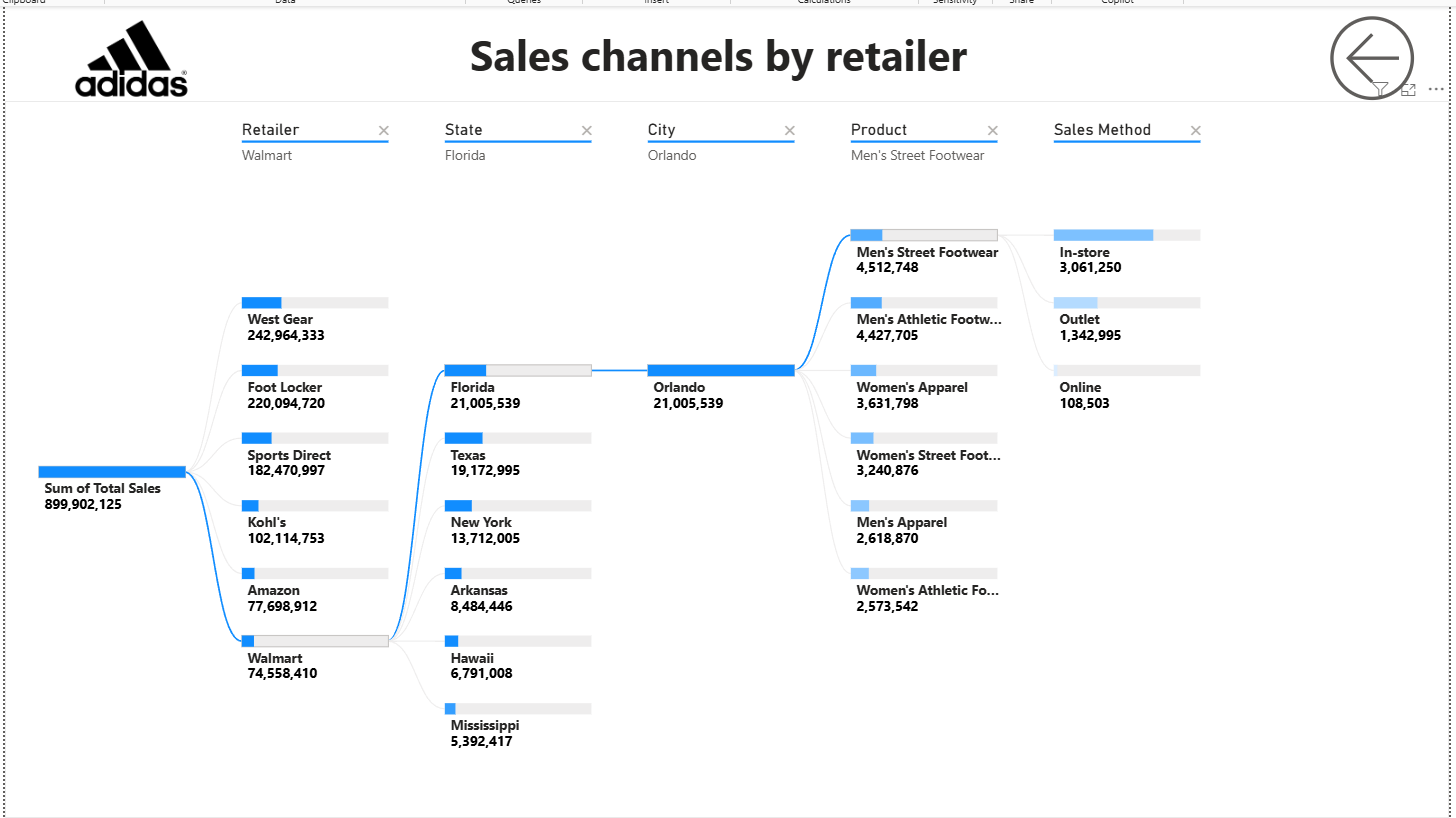

This screenshot's page, from the dashboard's own definition file:
{"tool":"powerbi","page":{"name":"Sales Channels","canvas":[1280,720],"ordinal":2},"visuals":[{"type":"decompositionTreeVisual","fields":{"Analyze":["Sum(Data.Total Sales)"],"ExplainBy":["Data.Retailer","Data.State","Data.City","Data.Product","Data.Sales Method"]},"box":[0,84.3,1280,635.9],"z":0},{"type":"actionButton","box":[1166.4,0,113.6,92.5],"z":1000},{"type":"textbox","box":[406.8,12.8,466.4,67.8],"z":2000},{"type":"image","box":[46.7,12.8,130.1,67.8],"z":3000}]}

Visuals, with their boxes on the page's 1280x720 design canvas (x1, y1, x2, y2). These are canvas units, not pixel positions in the 1456x818 screenshot, which may show the page scaled, cropped or inside an application window:
decompositionTreeVisual - Sum(Data.Total Sales) x Data.Retailer: x1=0 y1=84 x2=1280 y2=720
actionButton: x1=1166 y1=0 x2=1280 y2=92
textbox: x1=407 y1=13 x2=873 y2=81
image: x1=47 y1=13 x2=177 y2=81
